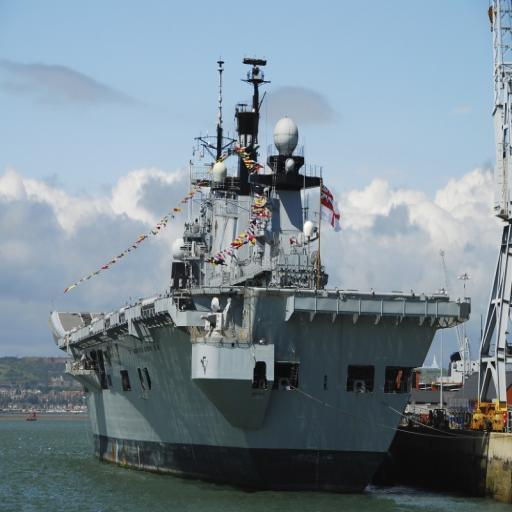Portanaves: (48, 48, 478, 498)
